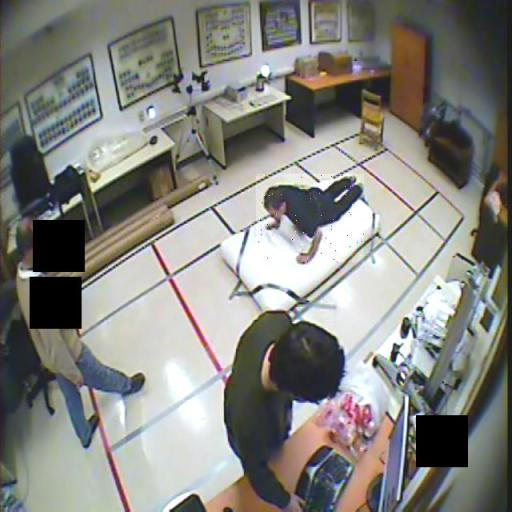Fall: (256, 174, 364, 263)
